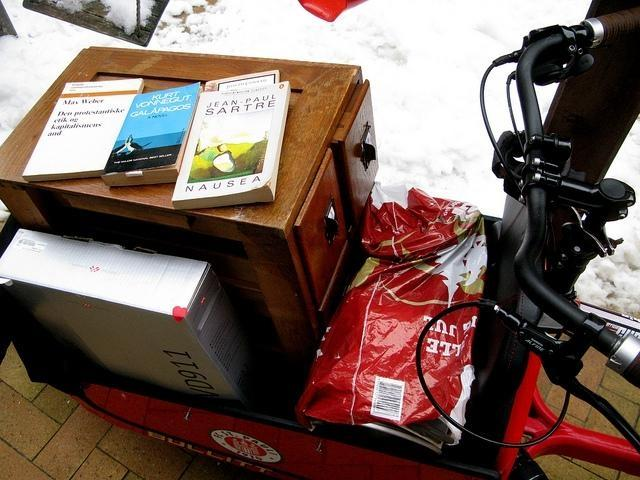bicycle: (76, 8, 640, 475)
